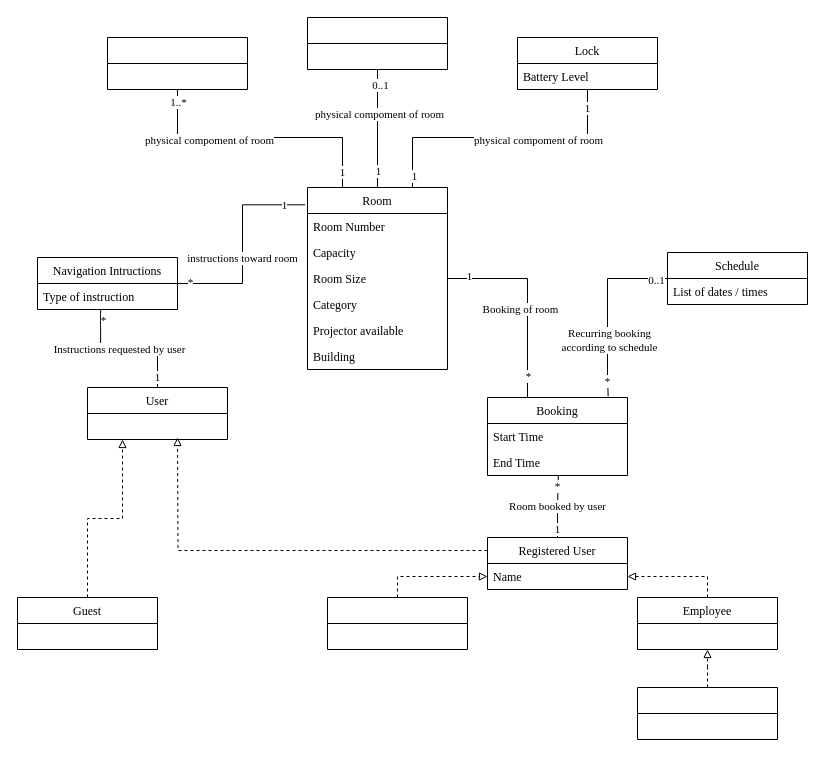
This 825x757 diagram has some shape labels left out. Here are the shapes that lost their labels. From the top down, the centre of each, then its label:
At [177,63]: "Movement sensor".
At [377,43]: "Display".
At [397,623]: "Students".
At [707,713]: "Professors".
